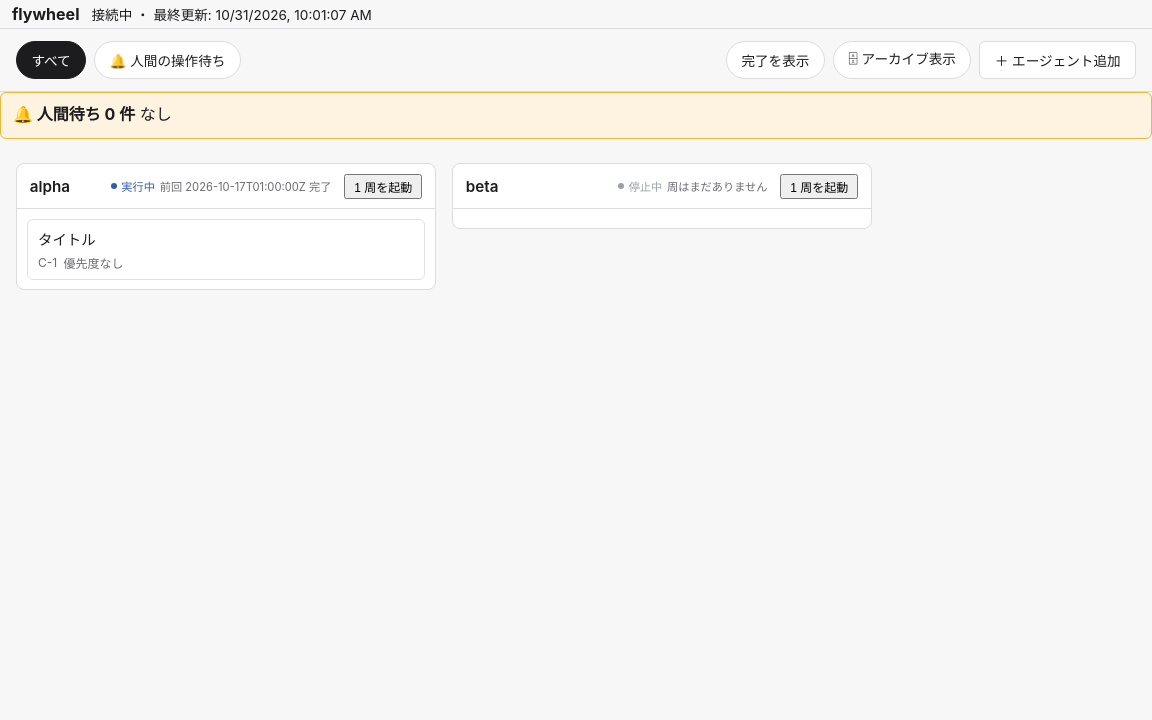
T12: 詳細を開いても fetch は GET だけ、form 要素なし
The width and height of the screenshot is (1152, 720).
Click the button "タイトル C-1 優先度なし" at (67, 239), box [28,220,424,279]
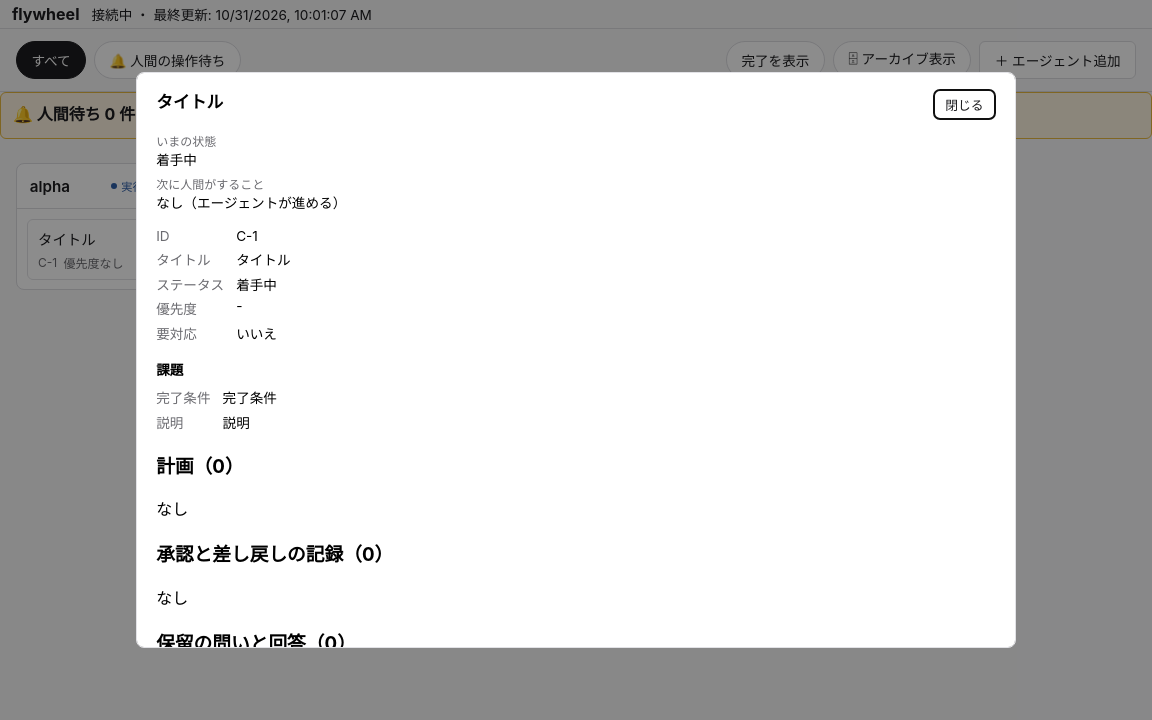
Expected: the heading "計画（0）" is shown, [156,455,244,478]
